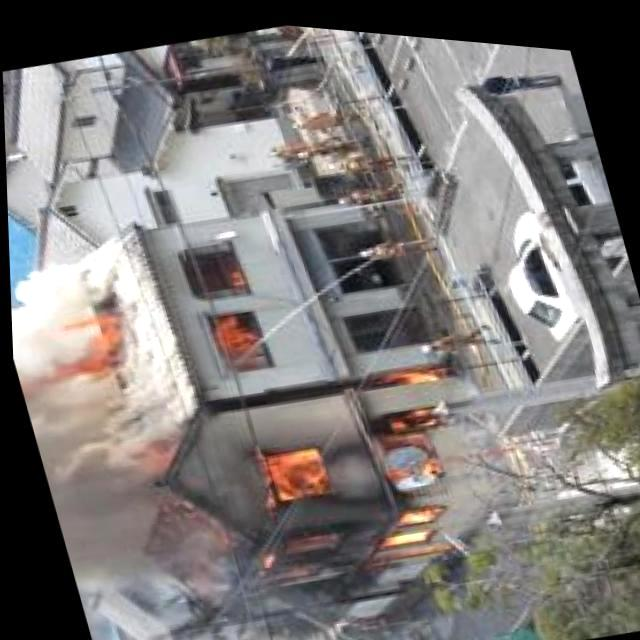fire: (180, 325, 500, 609), (13, 284, 133, 400), (186, 234, 278, 374)
